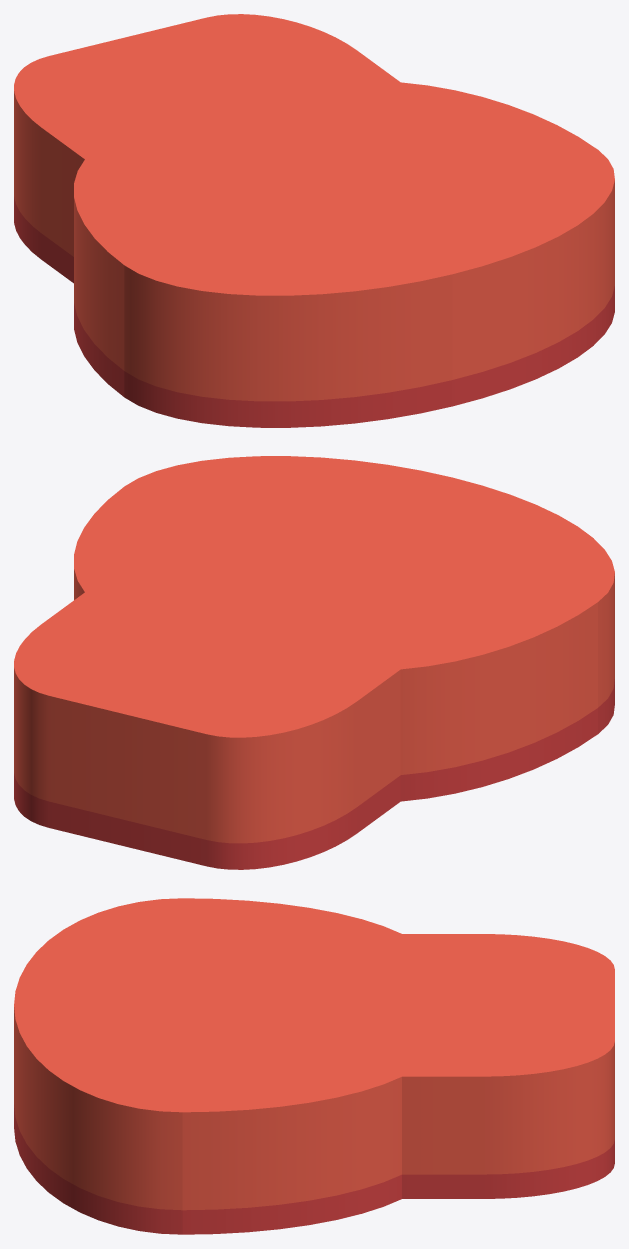
Rendered from body.obj.
3 renders of one model, top to bottom at view 1: azimuth 30°, elevation 25°; view 2: azimuth 150°, elevation 25°; view 3: azimuth 270°, elevation 25°, orthographic. The views are drawn at different scales.
Visible parts, largest first — view 1: mergedBlocks; view 2: mergedBlocks; view 3: mergedBlocks.
Part boxes in pixels (<box>): mergedBlocks: <box>14,14,614,427</box>; mergedBlocks: <box>14,456,614,869</box>; mergedBlocks: <box>14,898,614,1234</box>.
Bounding box in the file's own units: 3 × 0.8 × 3.56.
